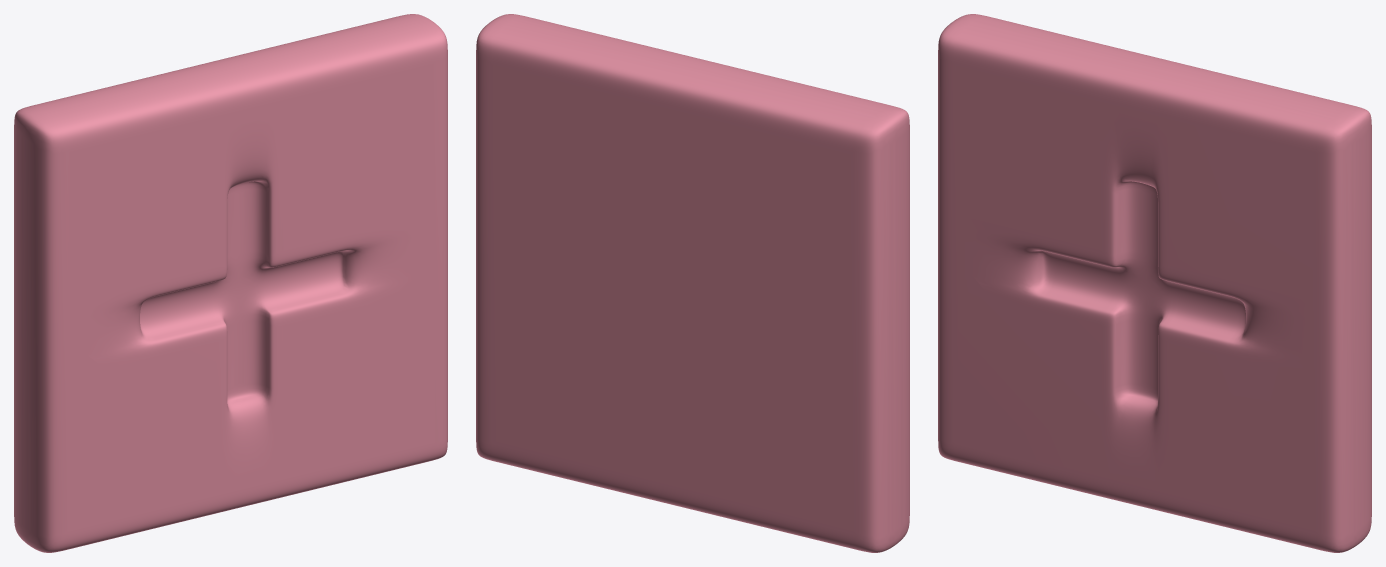
Rendered from addButton.glb.
3 renders of one model, left to right at view 1: azimuth 30°, elevation 25°; view 2: azimuth 150°, elevation 25°; view 3: azimuth 330°, elevation 25°, orthographic.
Visible parts, largest first — view 1: Cube; view 2: Cube; view 3: Cube.
Boxes of the visible parts, <box> form: Cube: <box>14,14,447,552</box>; Cube: <box>476,14,909,552</box>; Cube: <box>938,14,1371,552</box>.
Bounding box in the file's own units: 1.99 × 1.99 × 0.3283.
